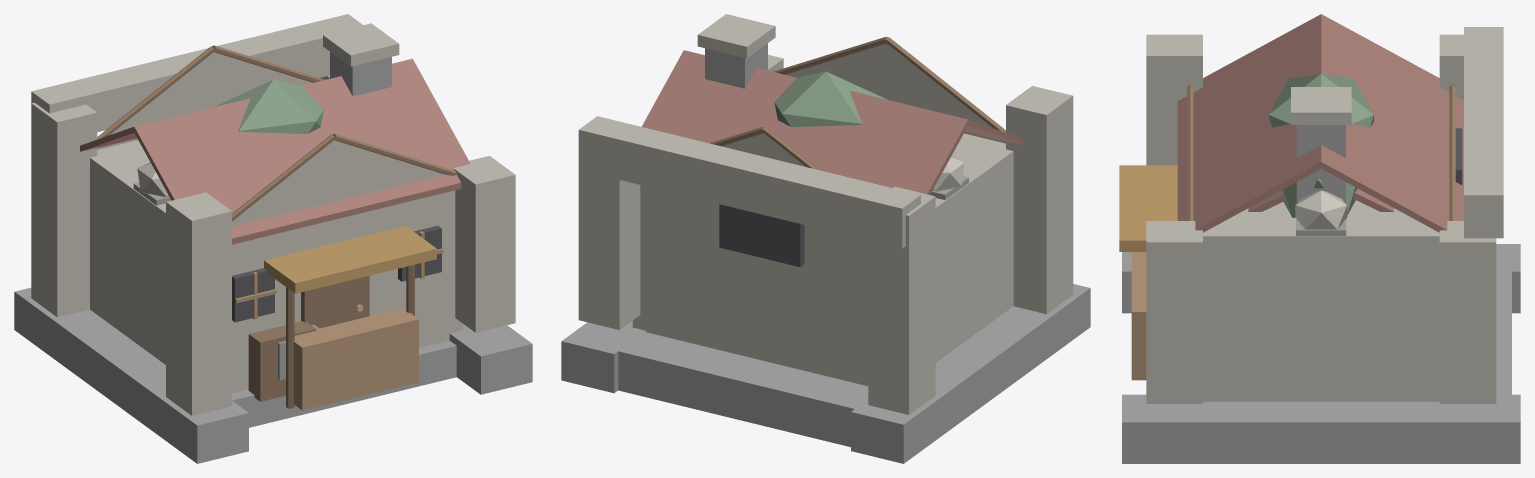
The model's file is world_props.glb.
3 renders of one model, left to right at view 1: azimuth 30°, elevation 25°; view 2: azimuth 150°, elevation 25°; view 3: azimuth 270°, elevation 25°, orthographic. The views are drawn at different scales.
Visible parts, largest first — view 1: BUILDING_HOME_00, BUILDING_MONASTERY_RUIN_03, BUILDING_SHOP_02, BUILDING_SMITHY_01, NATURE_TREE_OAK_06, BUILDING_CEMETERY_GATE_04; view 2: BUILDING_MONASTERY_RUIN_03, BUILDING_HOME_00, BUILDING_SMITHY_01, NATURE_TREE_OAK_06, BUILDING_CEMETERY_GATE_04; view 3: BUILDING_HOME_00, BUILDING_MONASTERY_RUIN_03, BUILDING_SHOP_02, BUILDING_SMITHY_01, NATURE_TREE_OAK_06, BUILDING_CEMETERY_GATE_04, BUILDING_WELL_05.
Boxes of the visible parts, <box> form: BUILDING_HOME_00: <box>80,45,470,427</box>; BUILDING_MONASTERY_RUIN_03: <box>14,14,532,463</box>; BUILDING_SHOP_02: <box>264,226,436,410</box>; BUILDING_SMITHY_01: <box>278,23,399,380</box>; NATURE_TREE_OAK_06: <box>214,79,323,133</box>; BUILDING_CEMETERY_GATE_04: <box>133,162,171,205</box>; BUILDING_MONASTERY_RUIN_03: <box>561,54,1090,463</box>; BUILDING_HOME_00: <box>632,36,1023,386</box>; BUILDING_SMITHY_01: <box>697,14,775,88</box>; NATURE_TREE_OAK_06: <box>774,71,886,126</box>; BUILDING_CEMETERY_GATE_04: <box>930,156,968,199</box>; BUILDING_HOME_00: <box>1177,14,1463,401</box>; BUILDING_MONASTERY_RUIN_03: <box>1122,27,1520,463</box>; BUILDING_SHOP_02: <box>1119,165,1177,380</box>; BUILDING_SMITHY_01: <box>1291,87,1351,203</box>; NATURE_TREE_OAK_06: <box>1268,73,1373,217</box>; BUILDING_CEMETERY_GATE_04: <box>1295,190,1347,235</box>; BUILDING_WELL_05: <box>1248,188,1393,211</box>.
Size of the model in its own units: 4.02 by 3.47 by 3.82.
